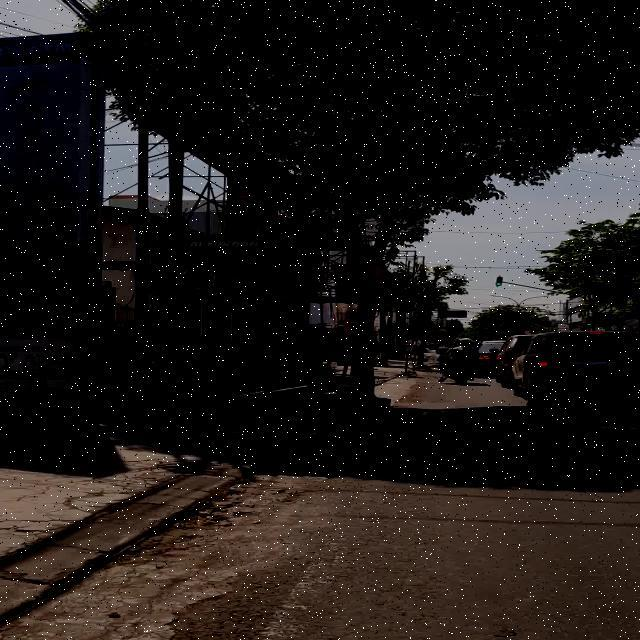Lampu Lalu Lintas: (327, 256, 395, 297)
